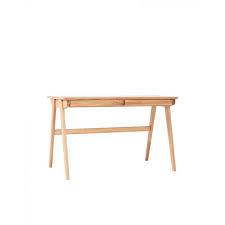desk: (26, 77, 192, 191)
